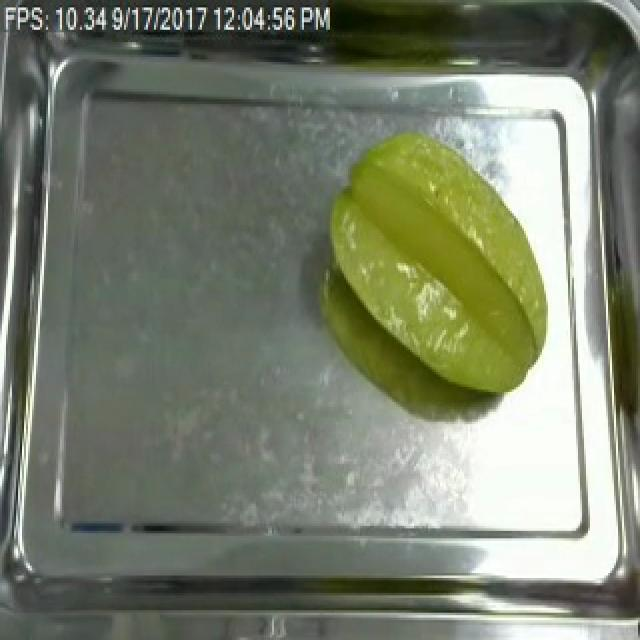fruit: (314, 124, 558, 407)
